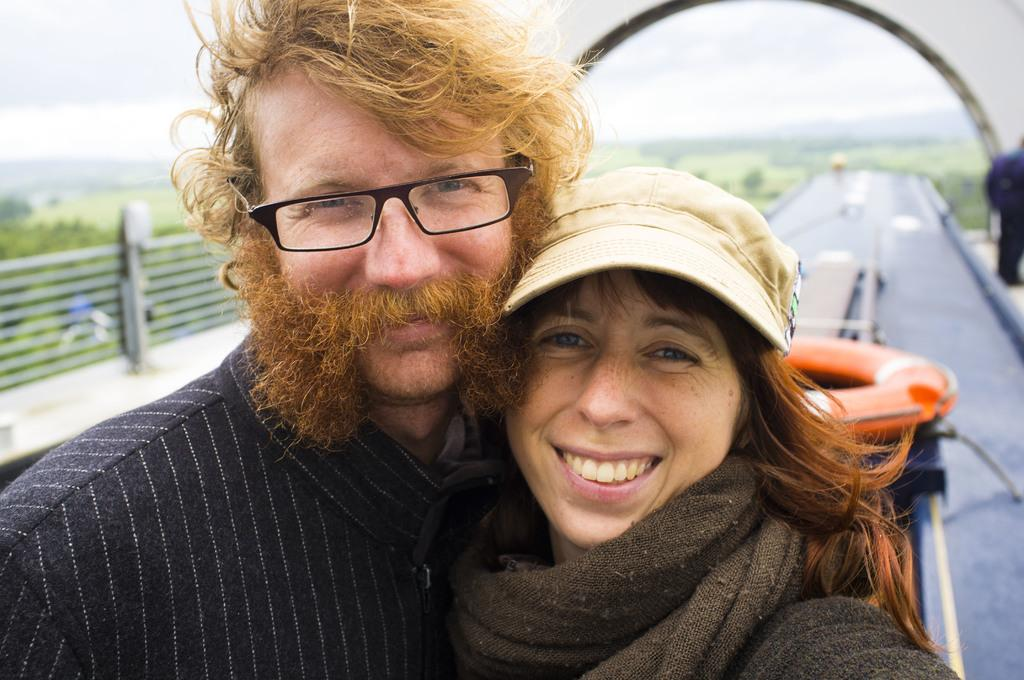Hat: (498, 166, 806, 356)
